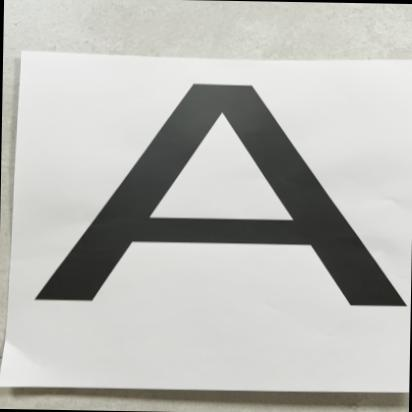seat: (28, 58, 412, 331)
